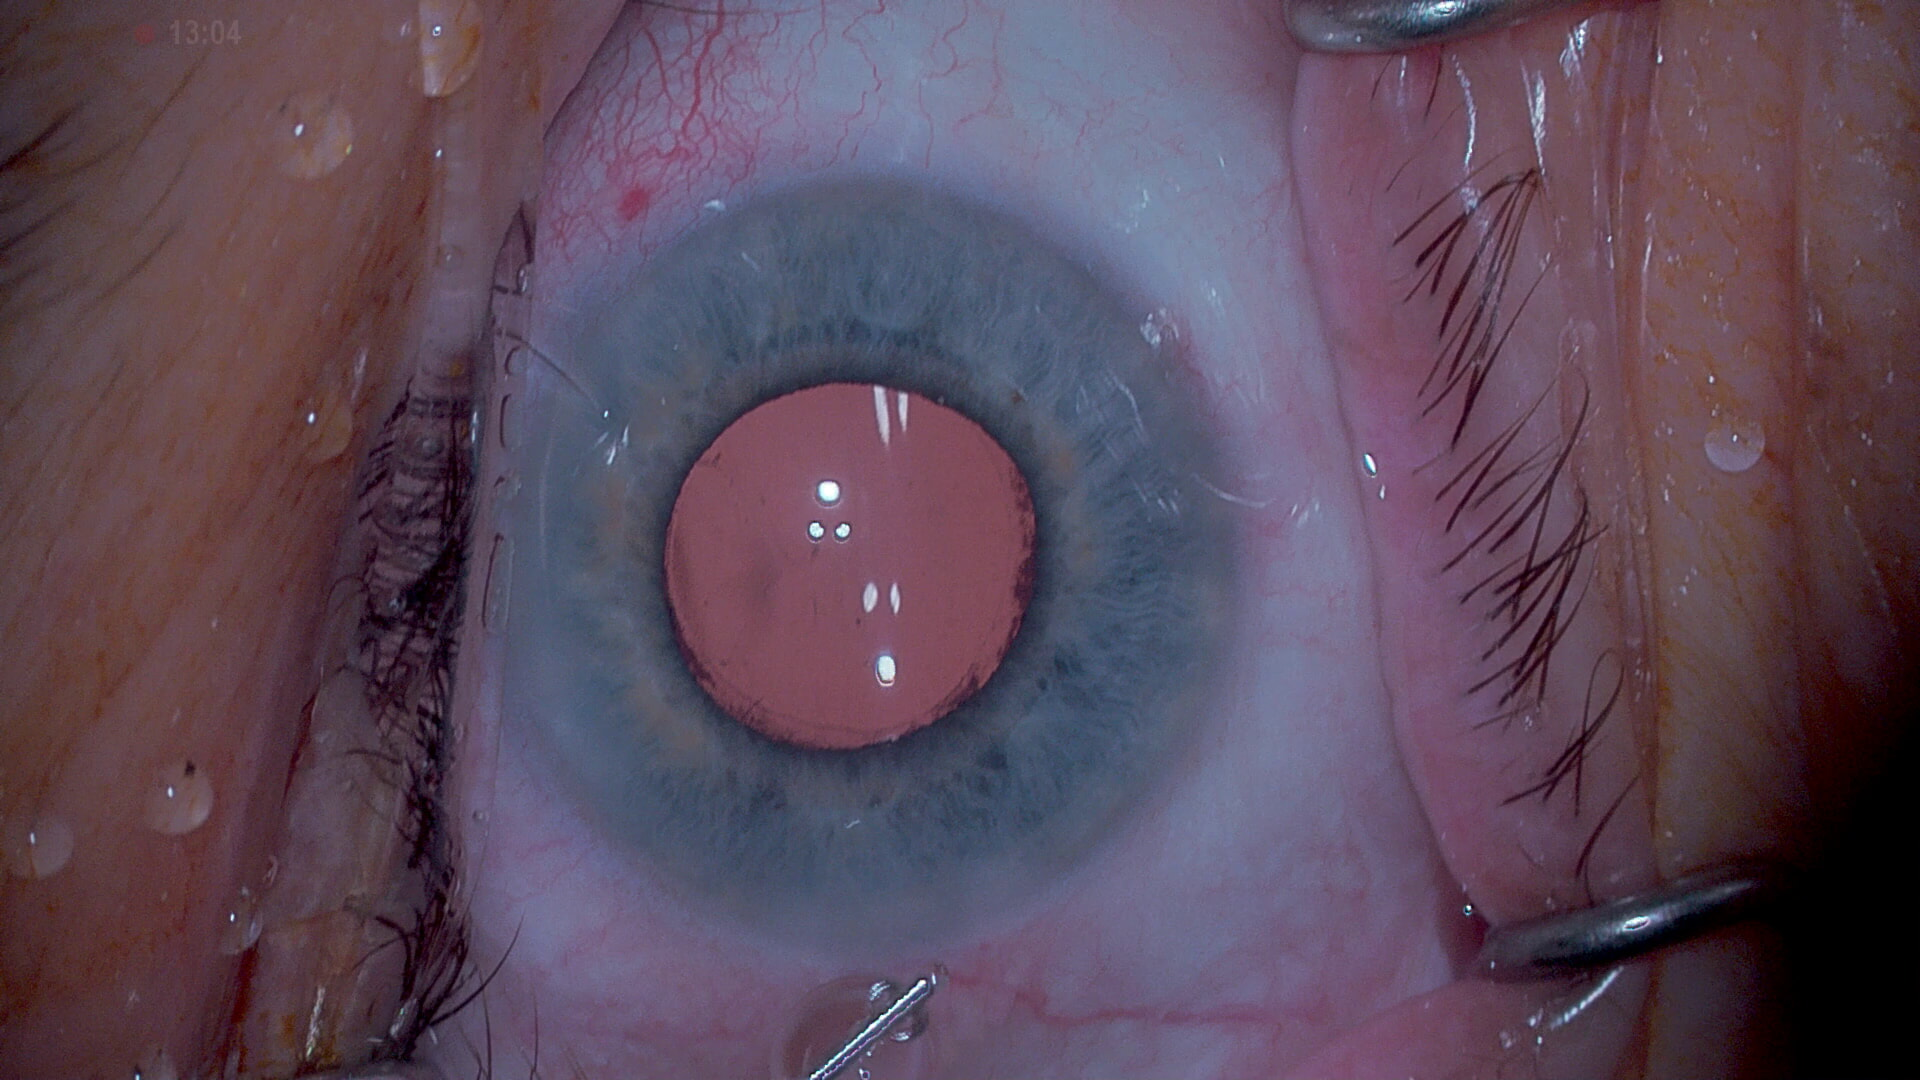iris: (510, 192, 1220, 926)
pupil: (660, 373, 1042, 756)
